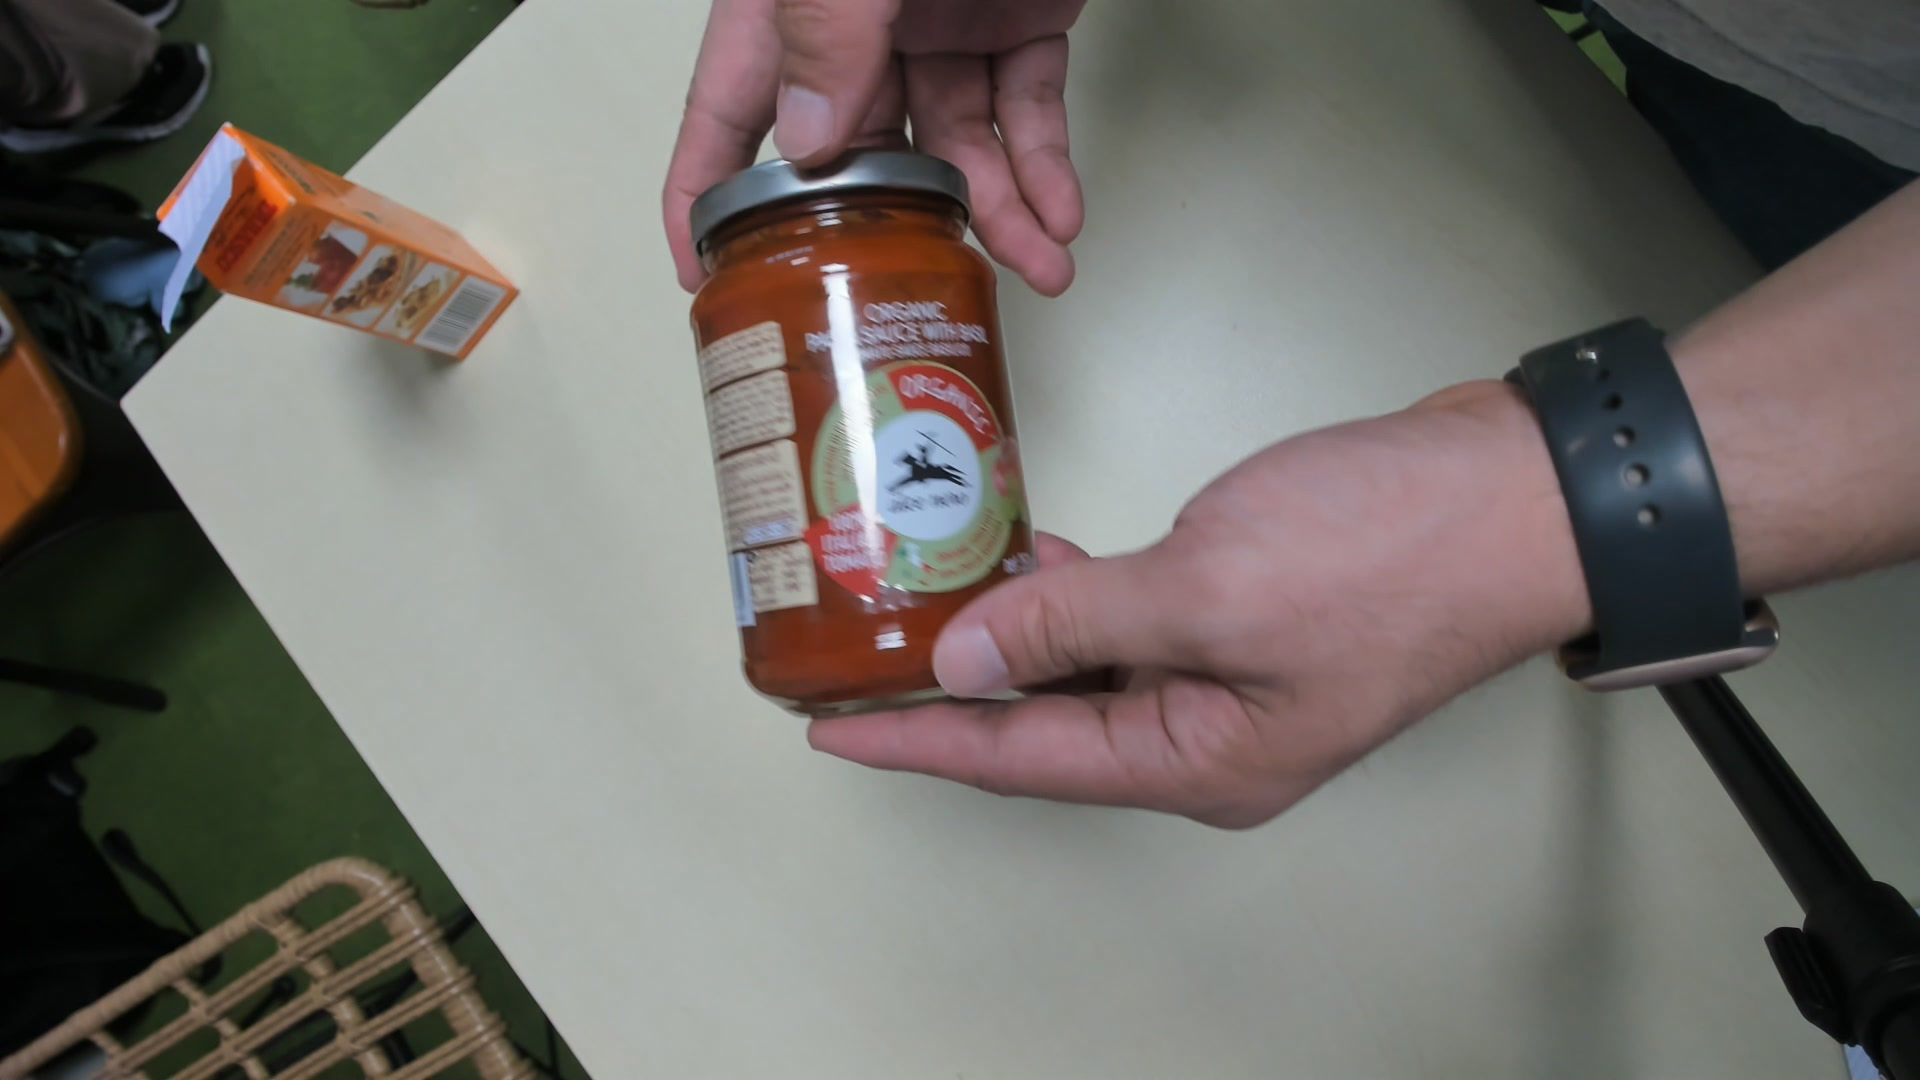PastaSauce_300-399g_NonHalal_NonHealthy: (687, 156, 1055, 723)
